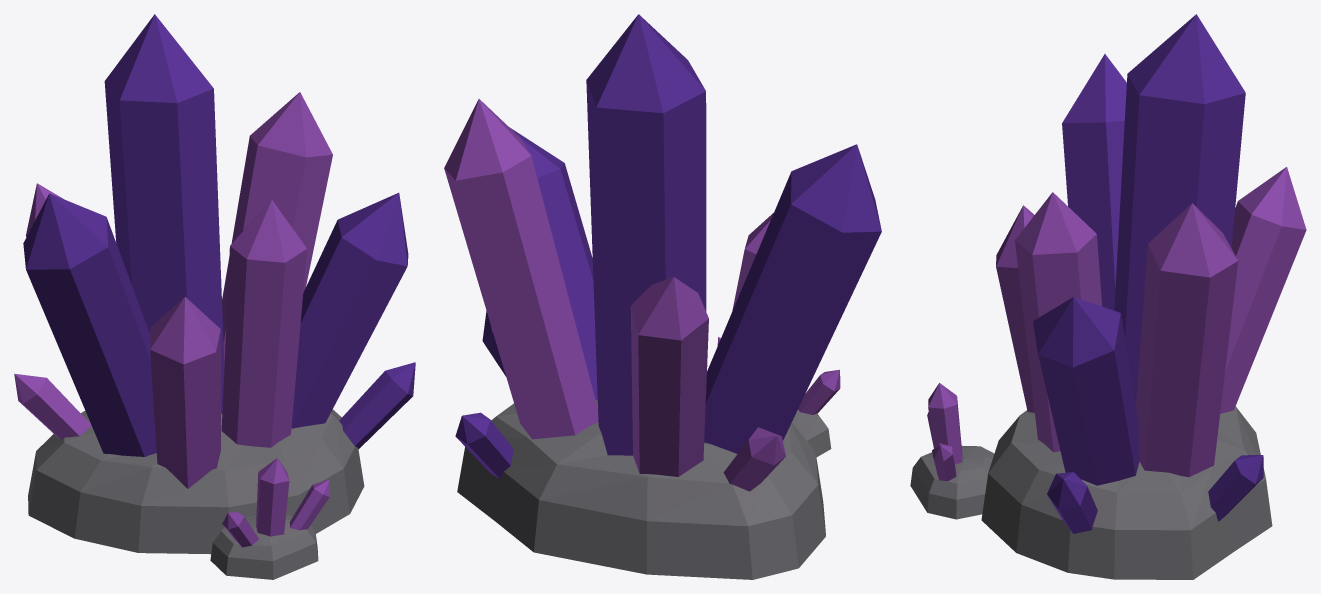
Rendered from crystal-cluster-78f2d7.glb.
The picture shows the model from 3 angles, left to right: view 1: azimuth 30°, elevation 25°; view 2: azimuth 150°, elevation 25°; view 3: azimuth 270°, elevation 25°; orthographic projection. The views are drawn at different scales.
Visible parts, largest first — view 1: crystals, rock; view 2: crystals, rock; view 3: crystals, rock.
Boxes of the visible parts, <box> form: crystals: <box>14,14,415,547</box>; rock: <box>28,409,364,579</box>; crystals: <box>444,14,881,491</box>; rock: <box>457,400,831,579</box>; crystals: <box>927,14,1306,533</box>; rock: <box>910,406,1272,579</box>.
Bounding box in the file's own units: 0.3498 × 0.4194 × 0.3114.
